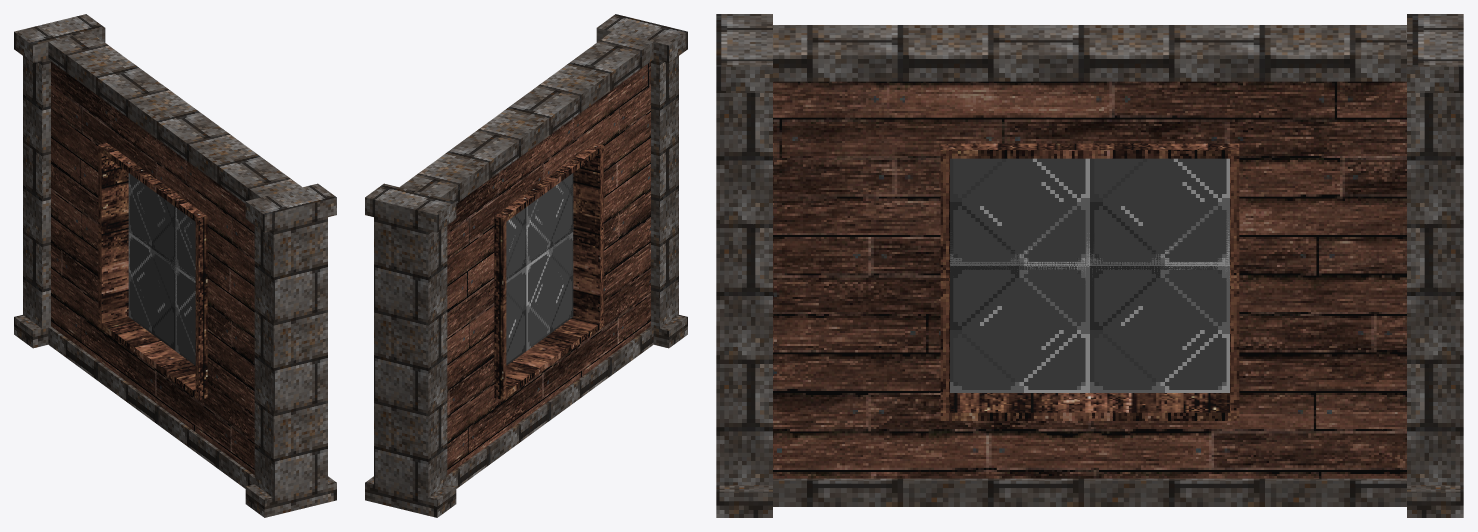
Rendered from pixel_wall_window_lowpoly.fbx.
The picture shows the model from 3 angles, left to right: view 1: azimuth 30°, elevation 25°; view 2: azimuth 150°, elevation 25°; view 3: azimuth 270°, elevation 25°; orthographic projection. The views are drawn at different scales.
Visible parts, largest first — view 1: psx_wall_window_bricks, psx_wall_window_wood, psx_wall_window_frame, psx_wall_window_glass; view 2: psx_wall_window_bricks, psx_wall_window_wood, psx_wall_window_frame, psx_wall_window_glass; view 3: psx_wall_window_wood, psx_wall_window_bricks, psx_wall_window_glass, psx_wall_window_frame.
Part boxes in pixels (x1,y1,x2,y2): psx_wall_window_bricks: [14, 14, 336, 517]; psx_wall_window_wood: [51, 61, 254, 474]; psx_wall_window_frame: [98, 143, 207, 399]; psx_wall_window_glass: [128, 173, 195, 365]; psx_wall_window_bricks: [365, 14, 687, 517]; psx_wall_window_wood: [447, 61, 650, 474]; psx_wall_window_frame: [494, 143, 603, 399]; psx_wall_window_glass: [506, 173, 573, 365]; psx_wall_window_wood: [773, 81, 1406, 478]; psx_wall_window_bricks: [716, 14, 1463, 517]; psx_wall_window_glass: [950, 158, 1229, 392]; psx_wall_window_frame: [940, 143, 1239, 420].
Bounding box in the file's own units: 50 × 200 × 300.
